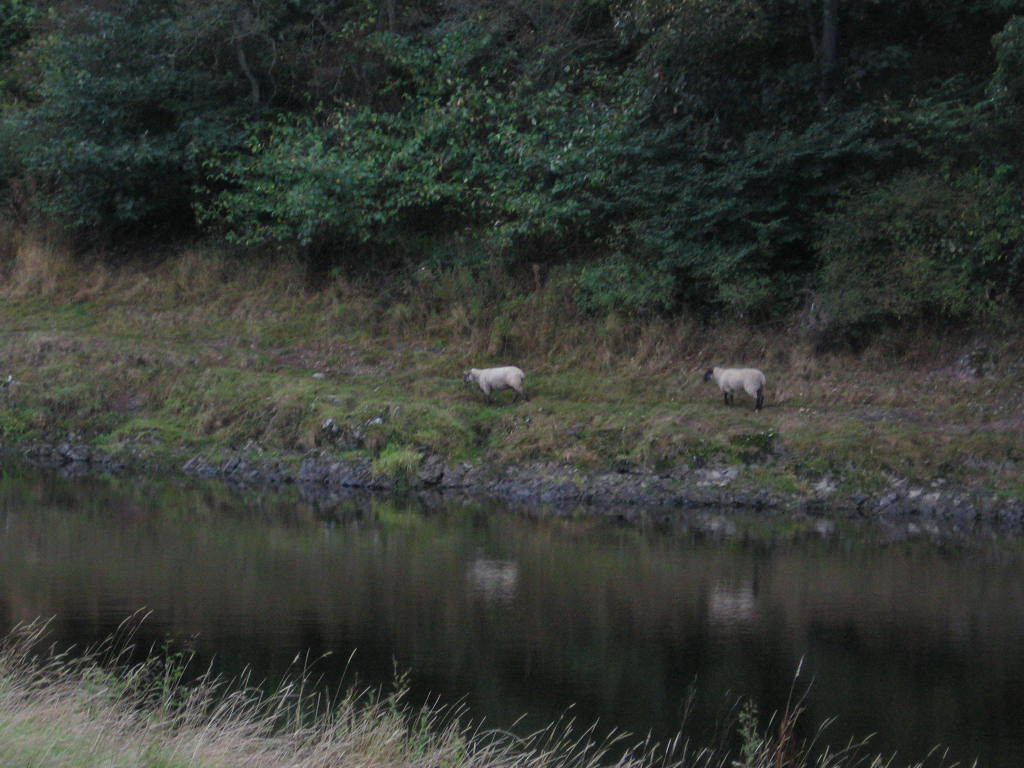Animal: (705, 366, 769, 409), (459, 364, 524, 404)
